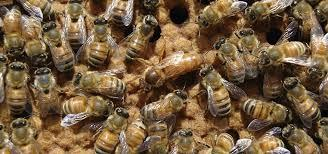Queen-Bee: (141, 46, 215, 90)
worker-bee: (45, 25, 83, 76), (94, 108, 133, 154), (236, 21, 265, 81), (203, 62, 233, 118), (138, 89, 189, 121), (215, 38, 249, 83), (87, 13, 112, 69), (82, 69, 127, 97), (65, 96, 117, 117)
